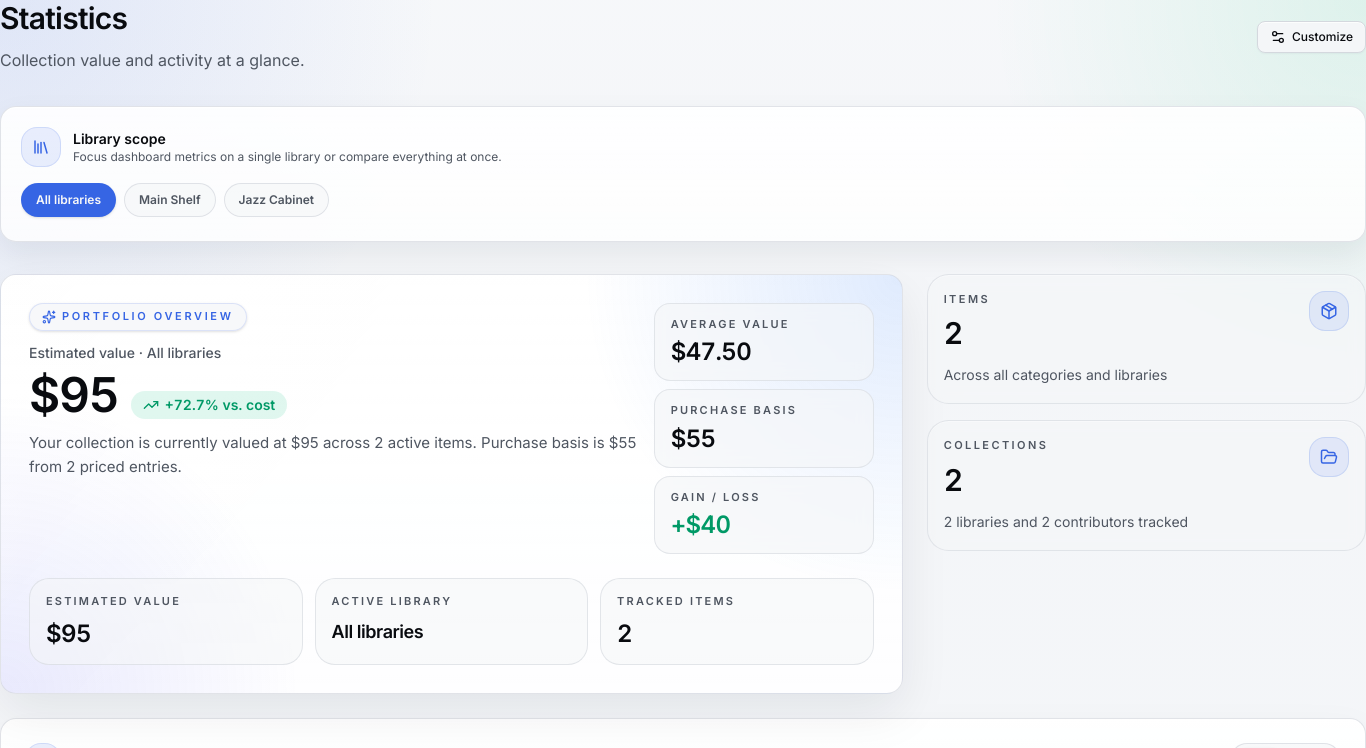
Scenario: Dashboard › applies the library scope to item widgets, not just the summary
The width and height of the screenshot is (1366, 748).
Click the button "Jazz Cabinet".
click(276, 200)  # box [224, 182, 329, 216]
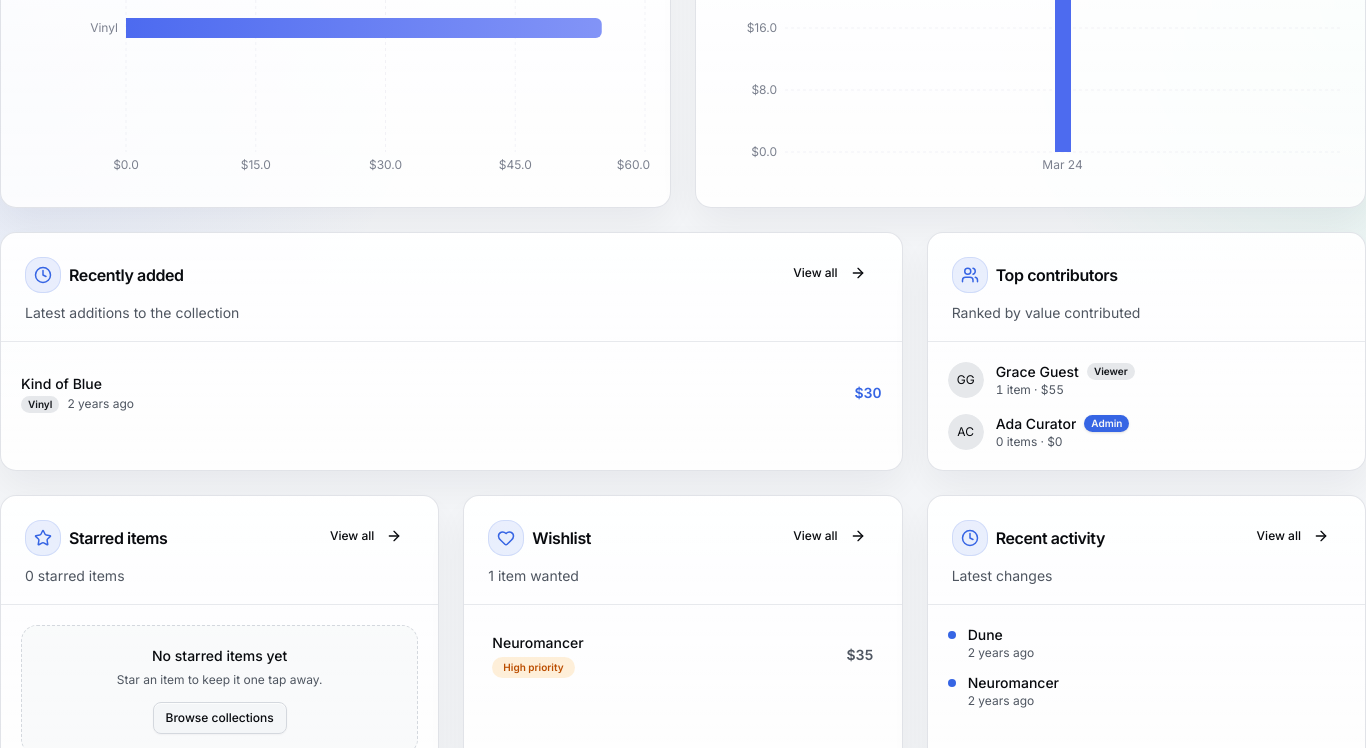
Result: the text "Kind of Blue" is shown at [21, 374, 102, 392]
